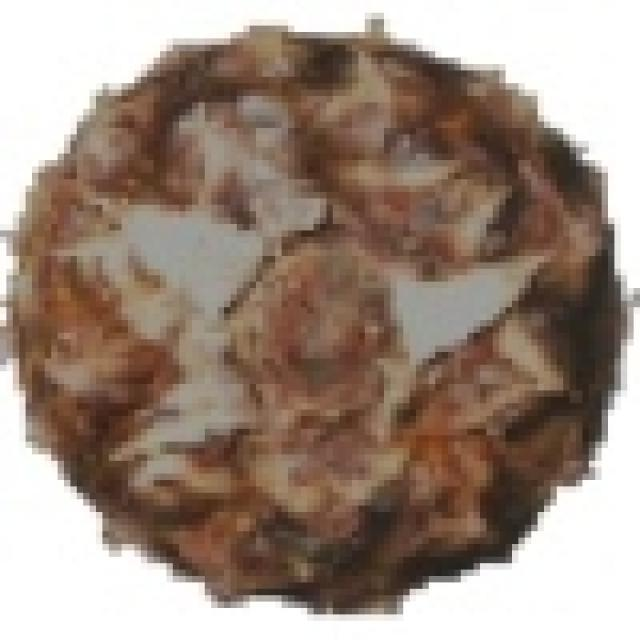pineapple: (6, 13, 608, 595)
